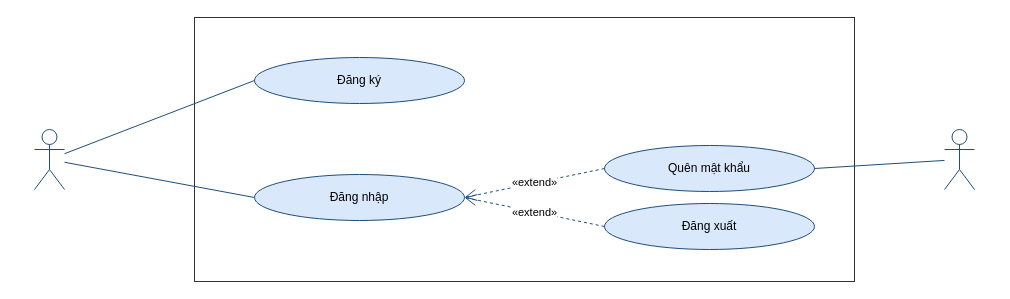
Some shapes in this 1010 by 299 pixel diagram are drawn without their labels. The box of each missing label's shape, as (x1, y1, x2, y2) in pixels:
Người dùng: (34, 128, 64, 190)
Quản trị viên: (944, 128, 974, 190)
